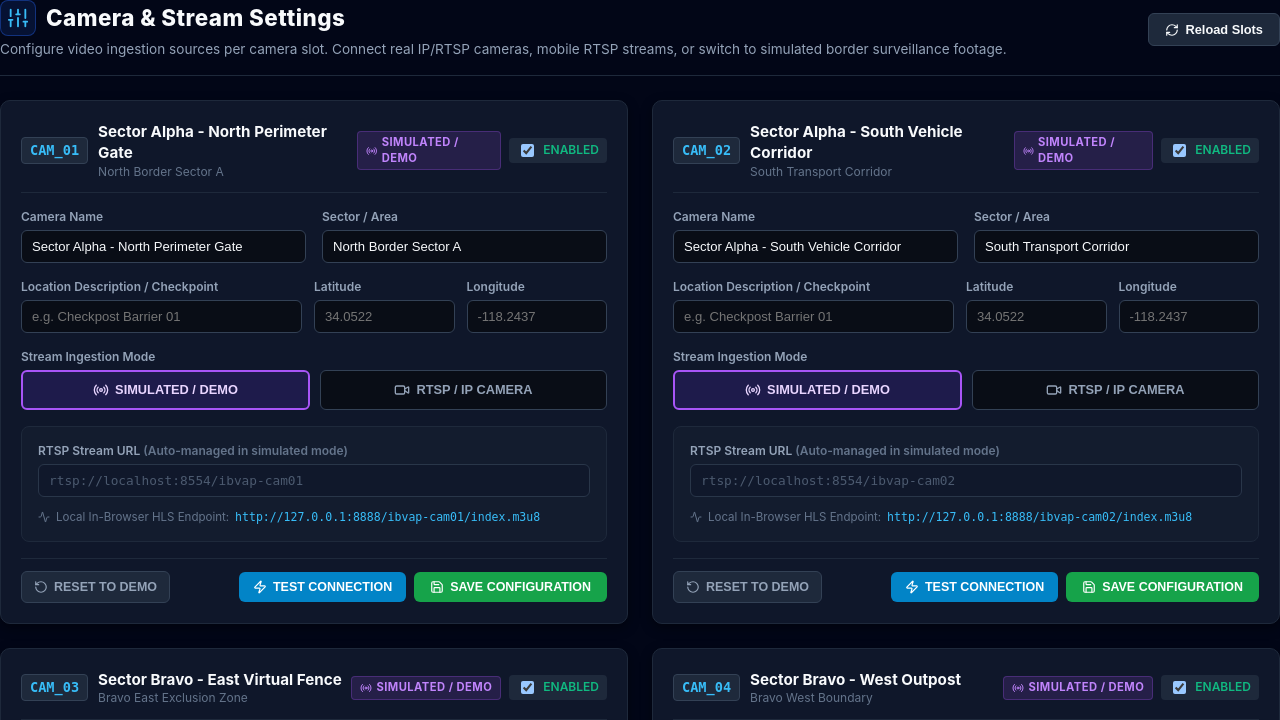
Test: CameraSettingsPage Component › handles connection test and renders diagnostics HUD panel
This screenshot has width=1280, height=720.
Note: Click Test Connection for CAM_01
Click the button "TEST CONNECTION" below "cam01": x=323, y=587 [239,572,406,602]
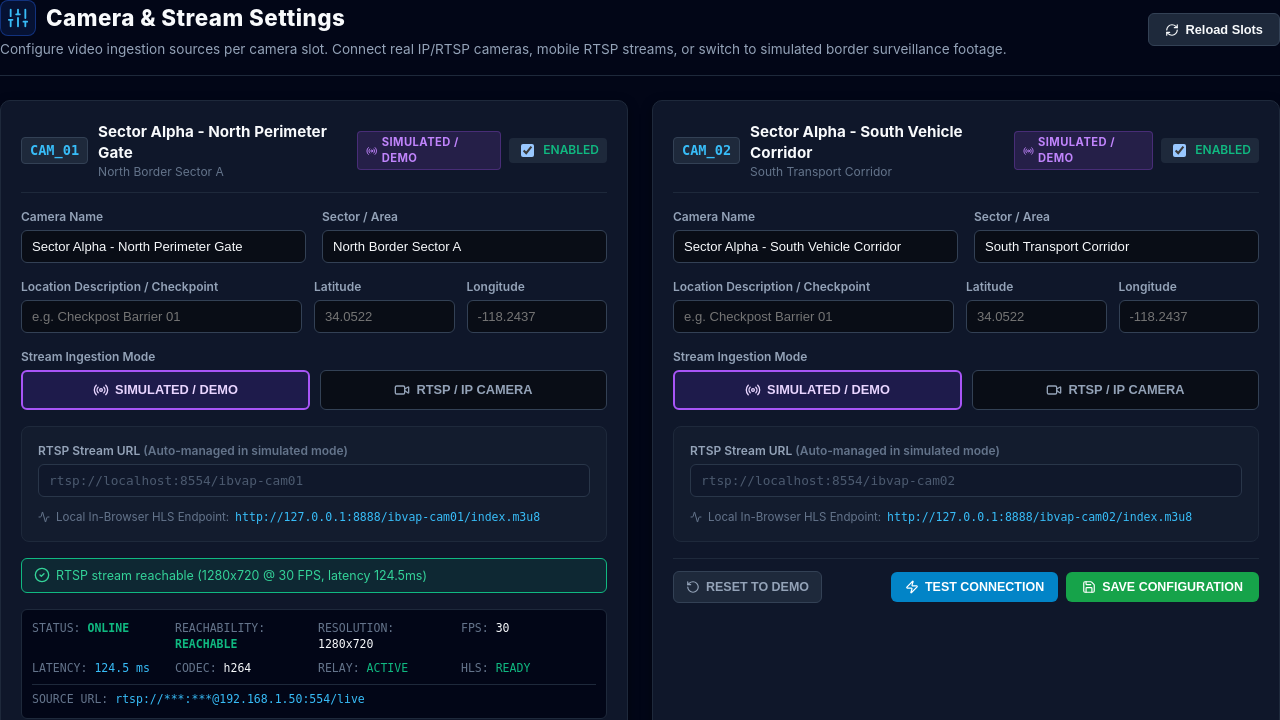
Result: the text "1280x720" is shown at [318,637,374,651]
Result: the text "124.5 ms" is shown at [94,661,150,675]
Result: the text "ONLINE" is shown at [88,621,129,635]
